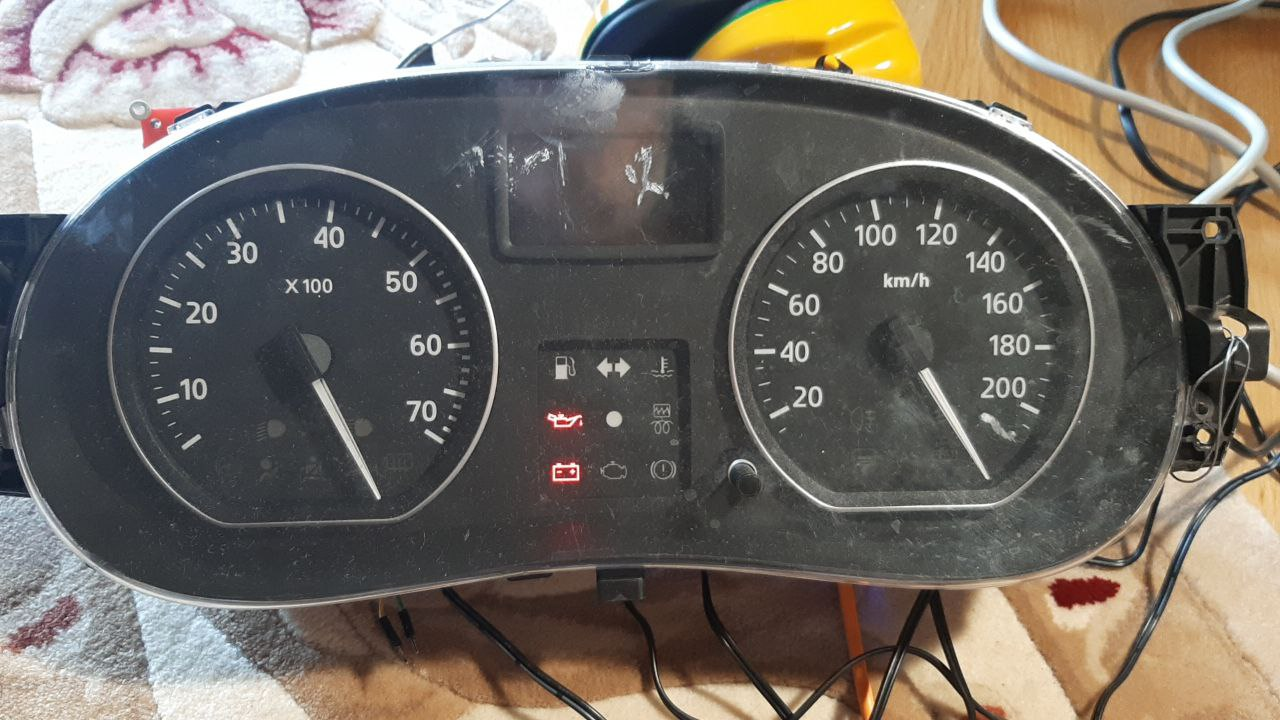accumulator: (544, 458, 587, 487)
oil: (545, 408, 587, 431)
